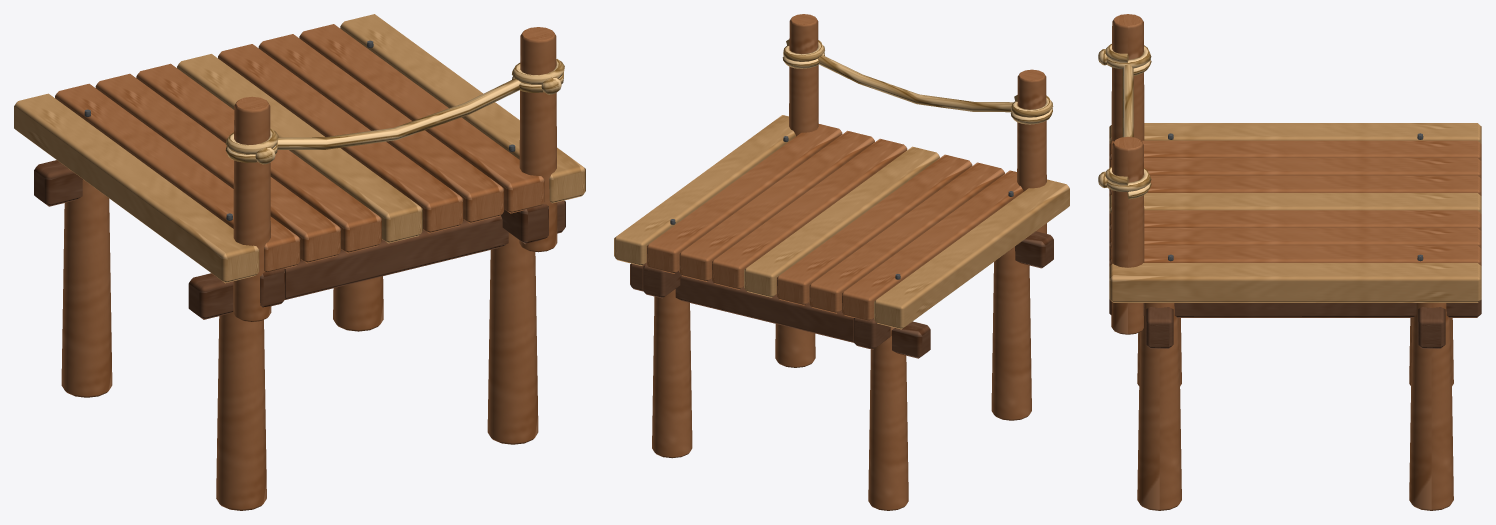
The model's file is SM_Dock_T.glb.
The picture shows the model from 3 angles, left to right: view 1: azimuth 30°, elevation 25°; view 2: azimuth 150°, elevation 25°; view 3: azimuth 270°, elevation 25°; orthographic projection. The views are drawn at different scales.
Parts seen in each view (by area): view 1: SM_Dock_T; view 2: SM_Dock_T; view 3: SM_Dock_T.
Boxes of the visible parts, left/top/right/bottom form: SM_Dock_T: left=14, top=14, right=585, bottom=510; SM_Dock_T: left=614, top=14, right=1069, bottom=510; SM_Dock_T: left=1098, top=14, right=1481, bottom=510.
Bounding box in the file's own units: 2 × 2.15 × 2.06.
1 material, 1 textured.
